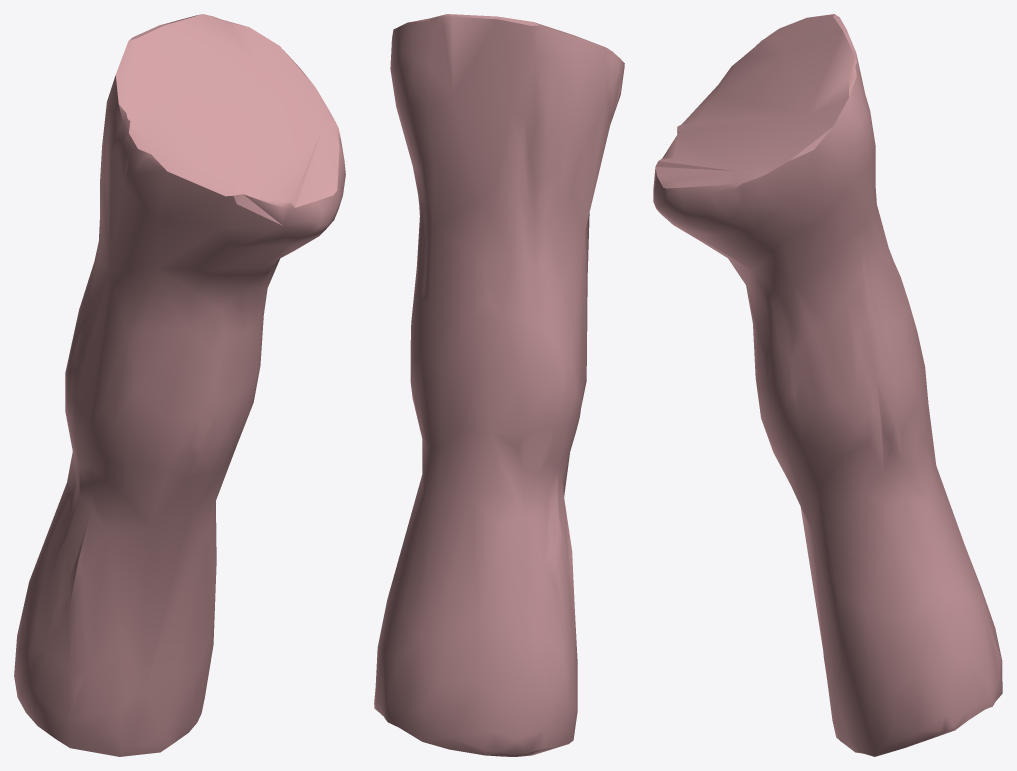
Rendered from fma55140_mm1172m.glb.
3 views of the same model, side by side, from view 1: azimuth 30°, elevation 25°; view 2: azimuth 150°, elevation 25°; view 3: azimuth 270°, elevation 25° (orthographic).
Visible parts, largest first — view 1: FMA55140_MM1172M; view 2: FMA55140_MM1172M; view 3: FMA55140_MM1172M.
Part boxes in pixels (left/top/right/bottom): FMA55140_MM1172M: left=14, top=14, right=345, bottom=756; FMA55140_MM1172M: left=374, top=14, right=624, bottom=756; FMA55140_MM1172M: left=653, top=14, right=1002, bottom=756.
Size of the model in its own units: 0.00371 by 0.0111 by 0.00494.
